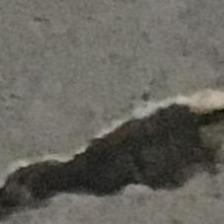Crack: (3, 45, 223, 224)
